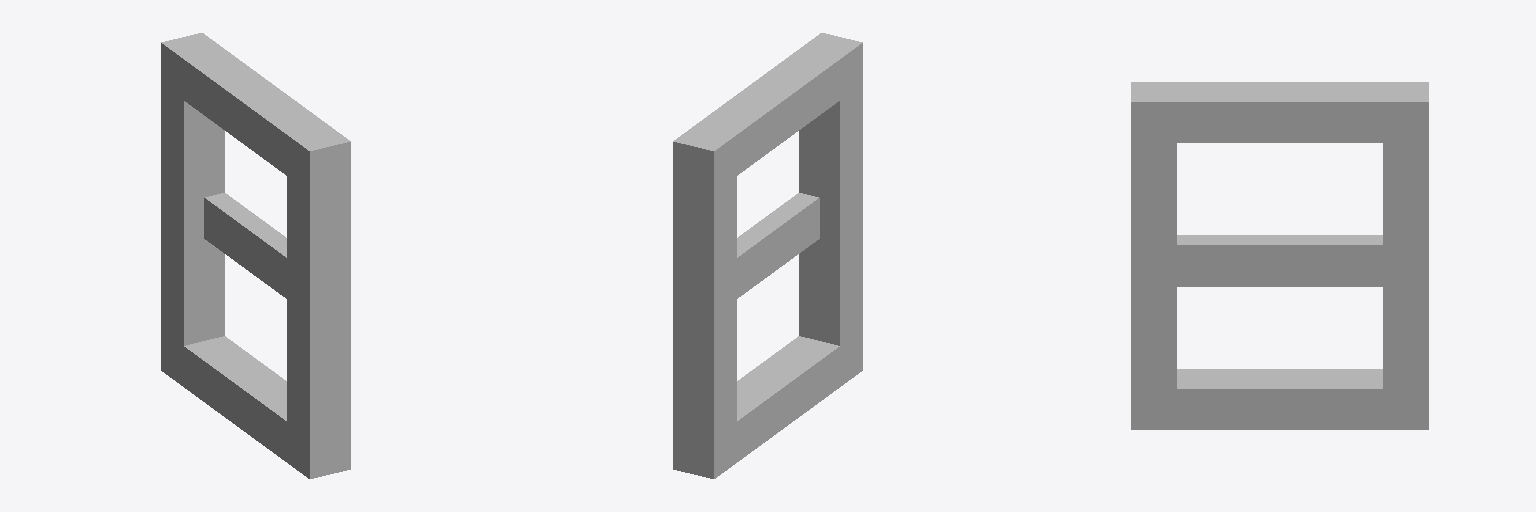
3 views of the same model, side by side, from view 1: azimuth 30°, elevation 25°; view 2: azimuth 150°, elevation 25°; view 3: azimuth 270°, elevation 25° (orthographic).
Parts seen in each view (by area): view 1: G-__556338_G-__556338_Wood; view 2: G-__556338_G-__556338_Wood; view 3: G-__556338_G-__556338_Wood.
Part boxes in pixels (x1,y1,x2,y2): G-__556338_G-__556338_Wood: (161, 33, 350, 478); G-__556338_G-__556338_Wood: (673, 33, 862, 478); G-__556338_G-__556338_Wood: (1131, 82, 1428, 429).
Size of the model in its own units: 0.05 by 0.38 by 0.3125.